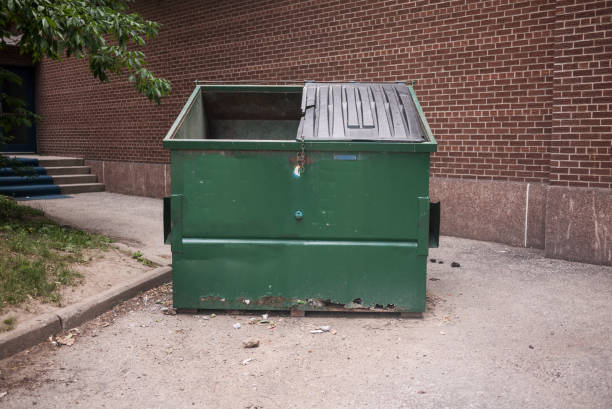Dumpster: (157, 75, 452, 332)
